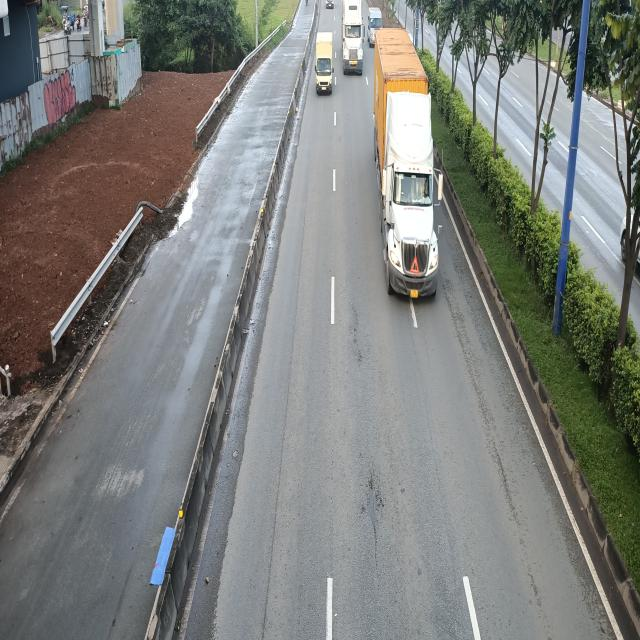container: (375, 31, 445, 302), (343, 0, 366, 72)
truck: (314, 32, 334, 97)
van: (367, 9, 383, 46)
